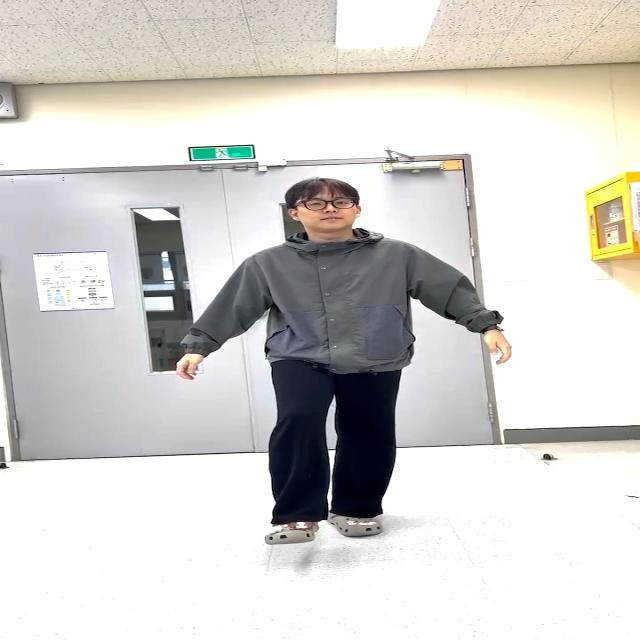leg: (247, 354, 337, 549)
